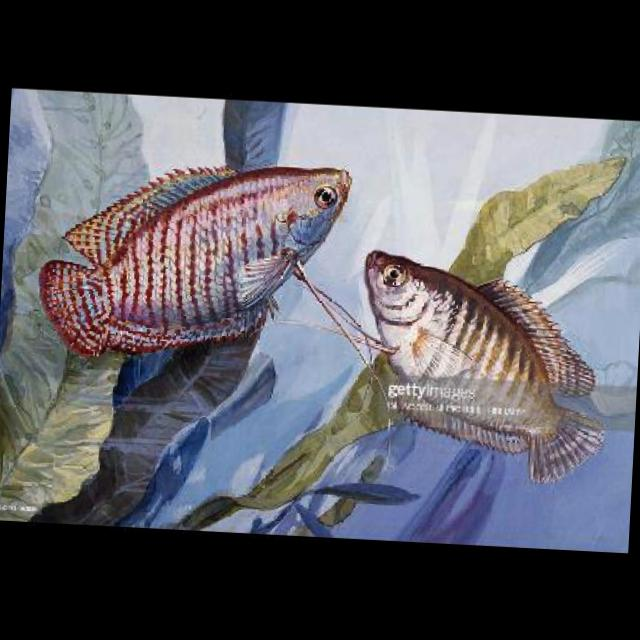Gourami: (37, 144, 357, 372), (344, 242, 614, 486)
